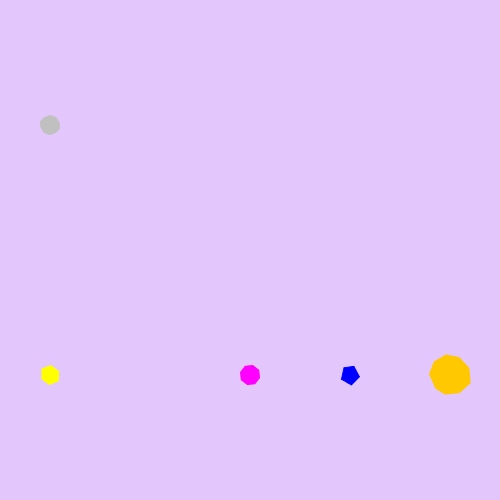decagon: (35, 111, 65, 139)
hexagon: (35, 362, 65, 388)
nonagon: (426, 352, 475, 399)
octagon: (235, 360, 265, 390)
pentagon: (336, 361, 364, 389)
